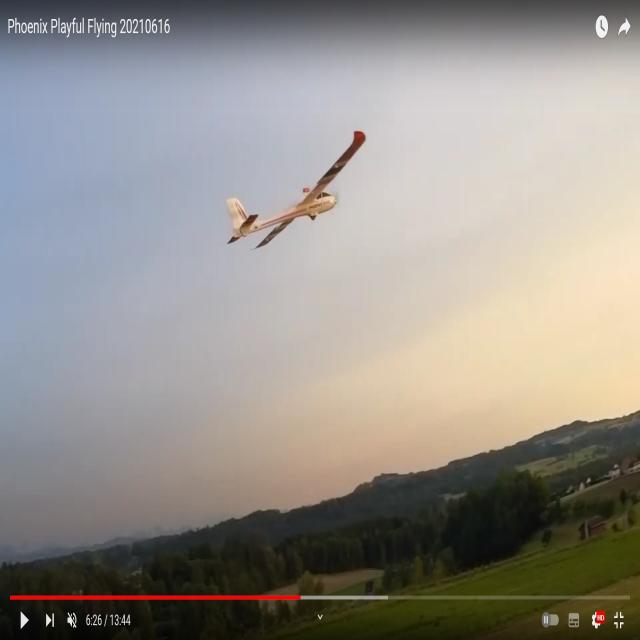iha: (225, 166, 367, 217)
